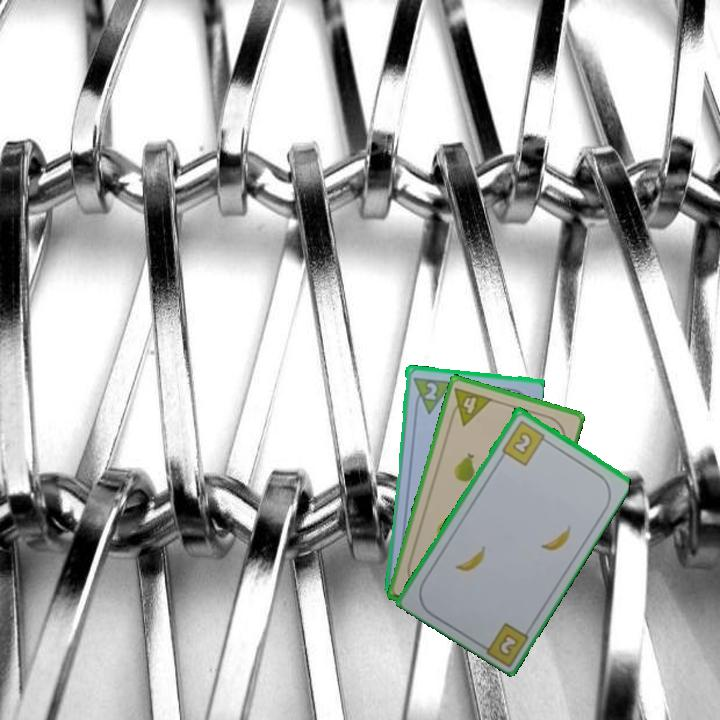2b: (498, 416, 552, 468), (497, 632, 519, 657)
2p: (421, 378, 440, 402)
4p: (446, 384, 495, 428)
